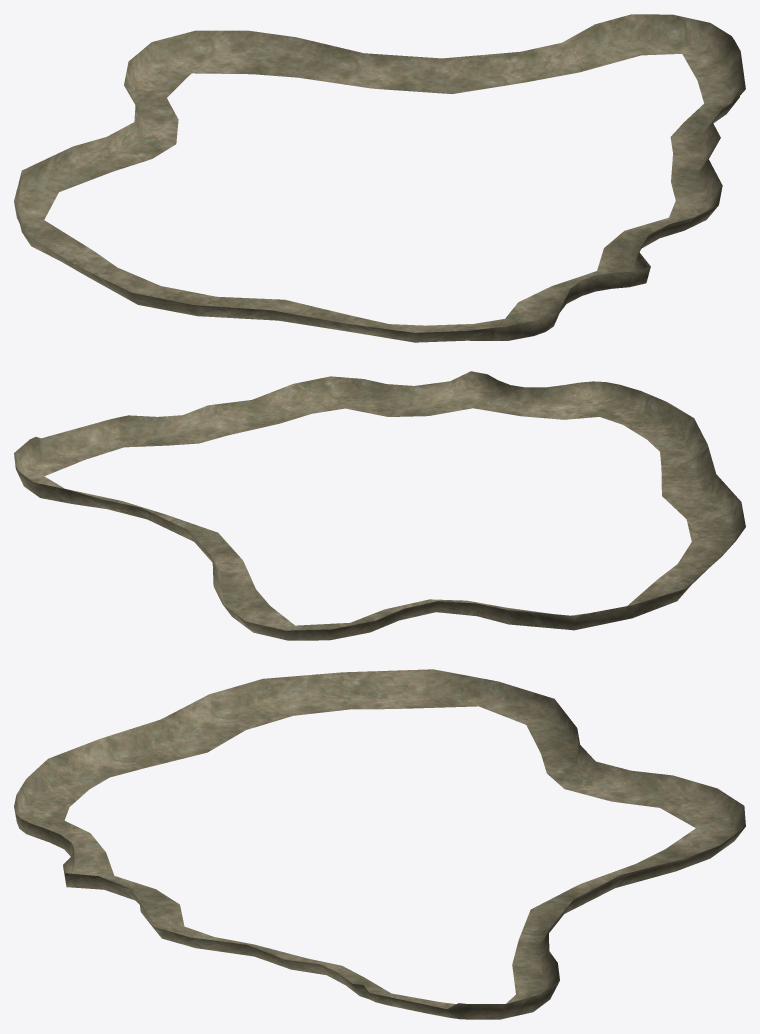
The model's file is EKH_CAVERNS_PS_CA_SM_CAVE_TRIM647475.fbx.
3 views of the same model, one above another, from view 1: azimuth 30°, elevation 25°; view 2: azimuth 150°, elevation 25°; view 3: azimuth 270°, elevation 25° (orthographic). The views are drawn at different scales.
Visible parts, largest first — view 1: EKH_CAVERNS_PS_CA_SM_CAVE_TRIM647475; view 2: EKH_CAVERNS_PS_CA_SM_CAVE_TRIM647475; view 3: EKH_CAVERNS_PS_CA_SM_CAVE_TRIM647475.
Boxes of the visible parts, <box> form: EKH_CAVERNS_PS_CA_SM_CAVE_TRIM647475: <box>14,14,745,342</box>; EKH_CAVERNS_PS_CA_SM_CAVE_TRIM647475: <box>14,371,745,640</box>; EKH_CAVERNS_PS_CA_SM_CAVE_TRIM647475: <box>14,669,745,1019</box>.
Size of the model in its own units: 249880 by 7171 by 227354.
1 material, 1 textured.
